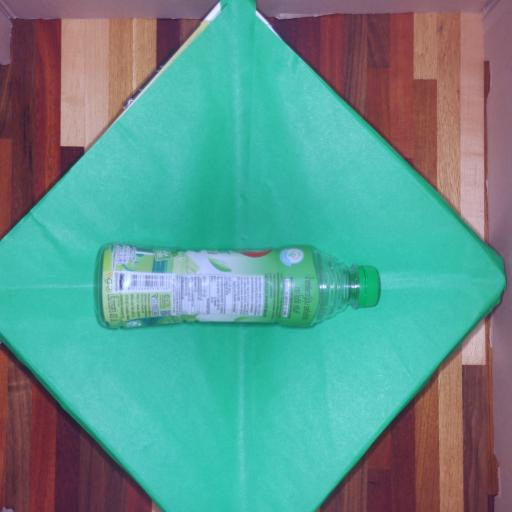bottle: (79, 216, 401, 357)
